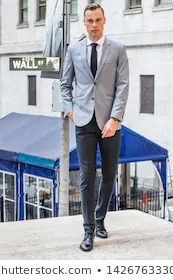F_M_suit jacket: (60, 31, 132, 134)
